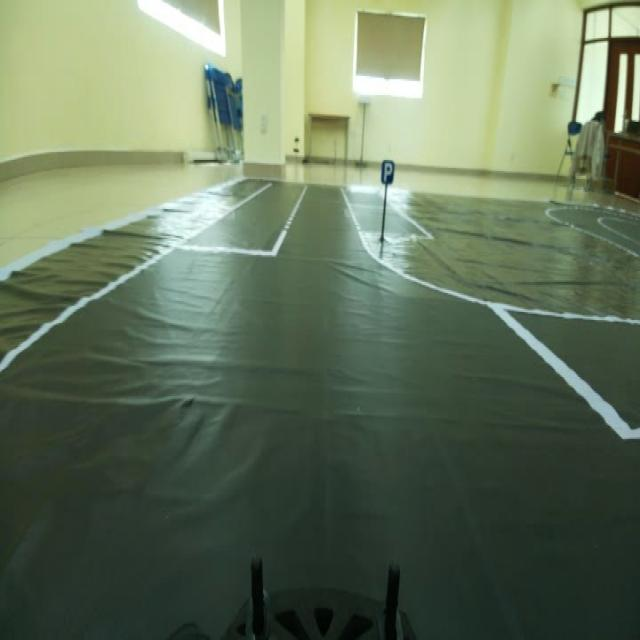parking: (378, 154, 398, 195)
